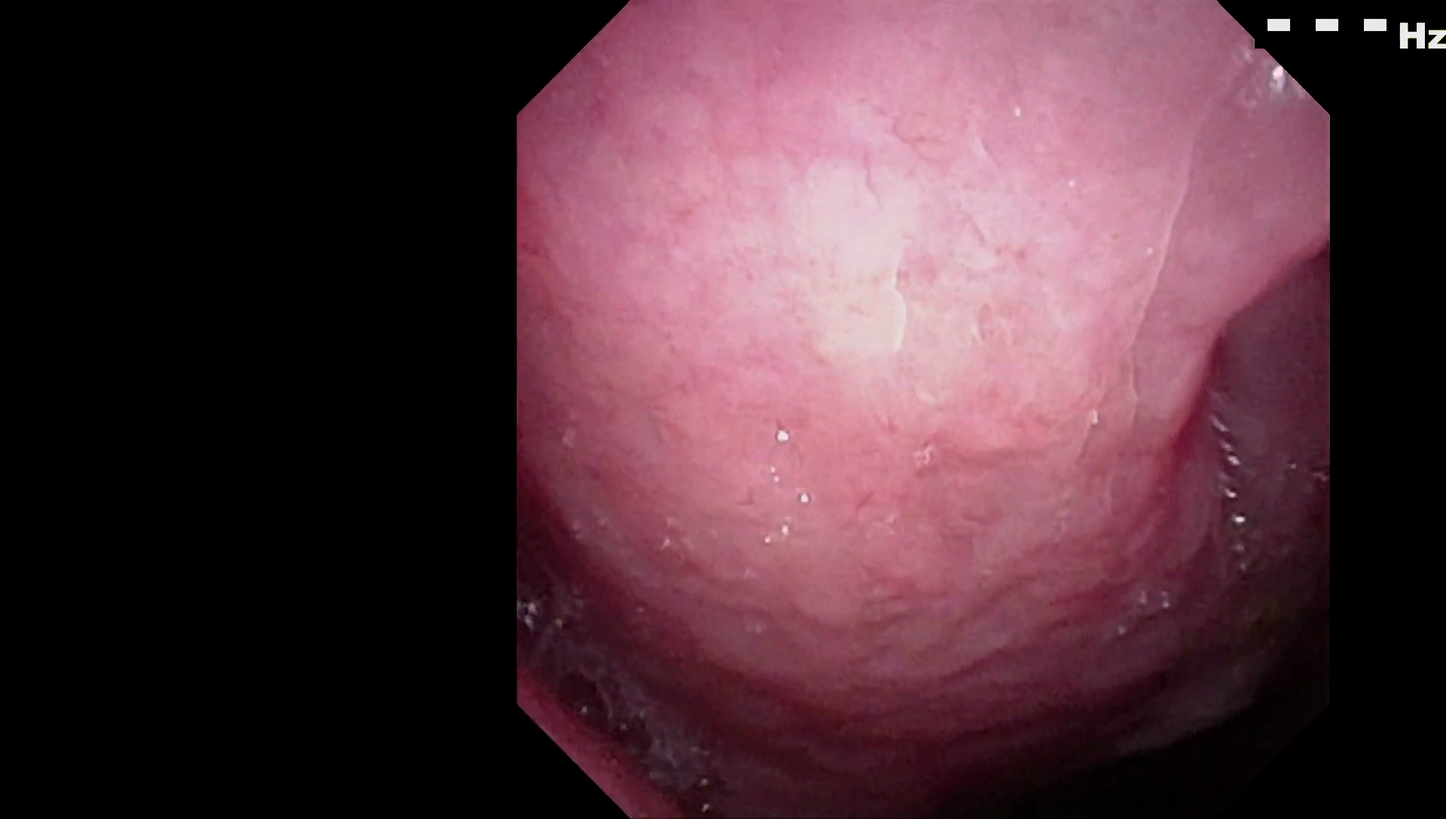close_wall: (563, 72, 1247, 531)
next: (900, 620, 1276, 814)
